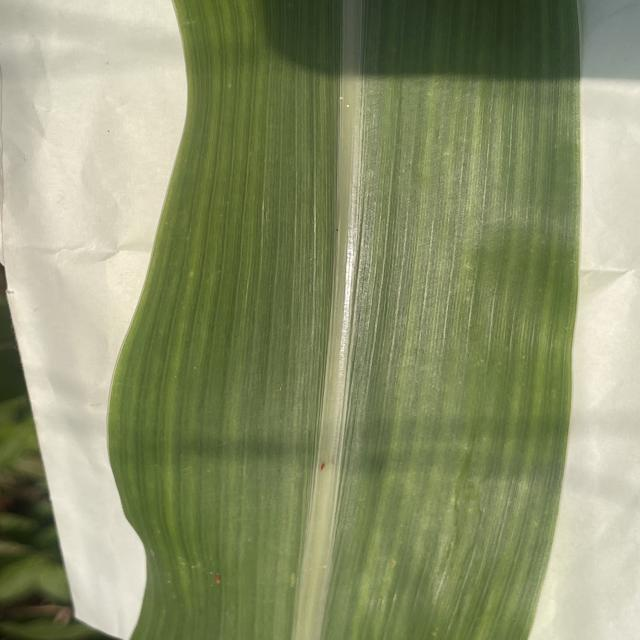millet_healthy: (102, 0, 582, 640)
